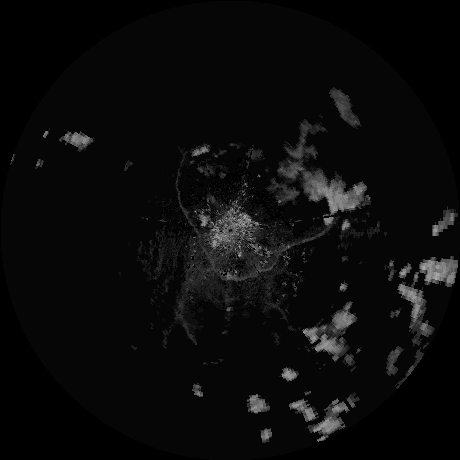frontgust: (175, 158, 226, 277), (227, 226, 327, 281)
